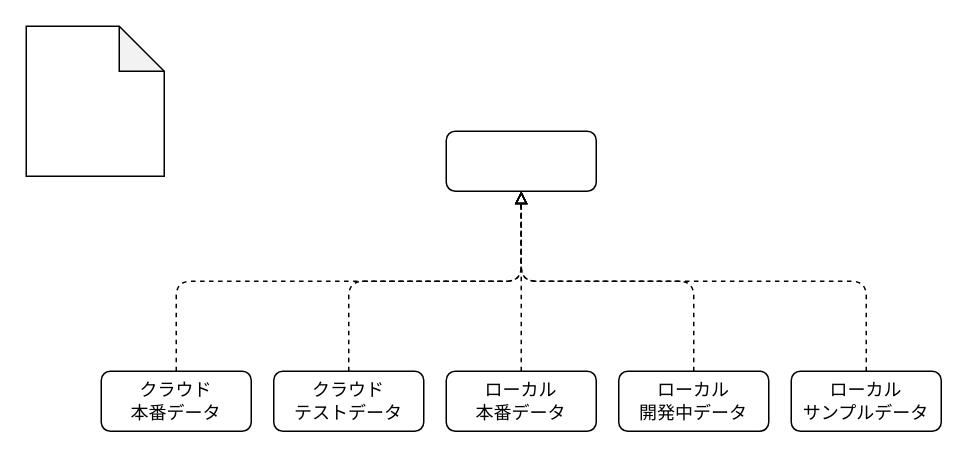
The diagram is 968 pixels wide and 458 high, and some of its shapes have lost their labels. The centre of each missing label's shape, as x and y in pixels:
<<Interface>> 環境設定ファイル: point 520,160
Service : share Context : config: point 94,100
